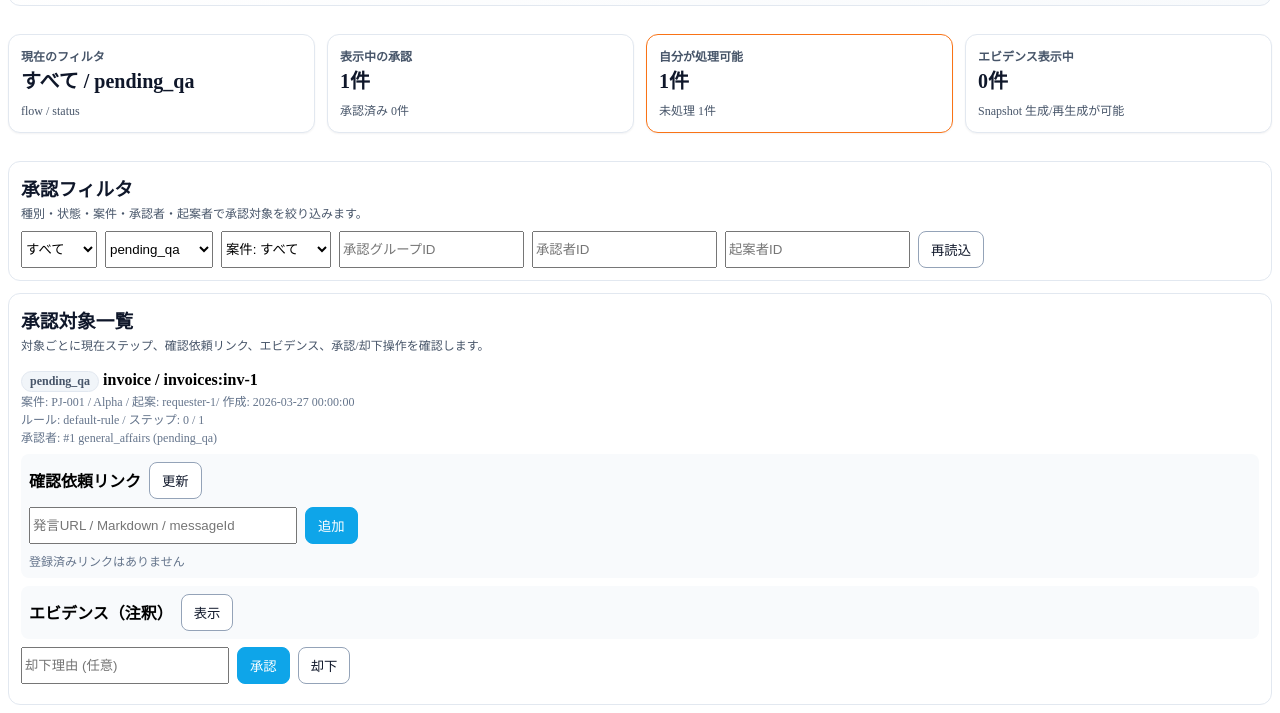
Test: Approvals › shows a permission guidance when chat preview fetch is forbidden
(page scrolled)
Check: the text "pending_qa invoice / invoices:inv-1" is shown, box [21,371,258,392]
Click the button "表示" at [207, 612], box [181,594,233,631]
(page scrolled)
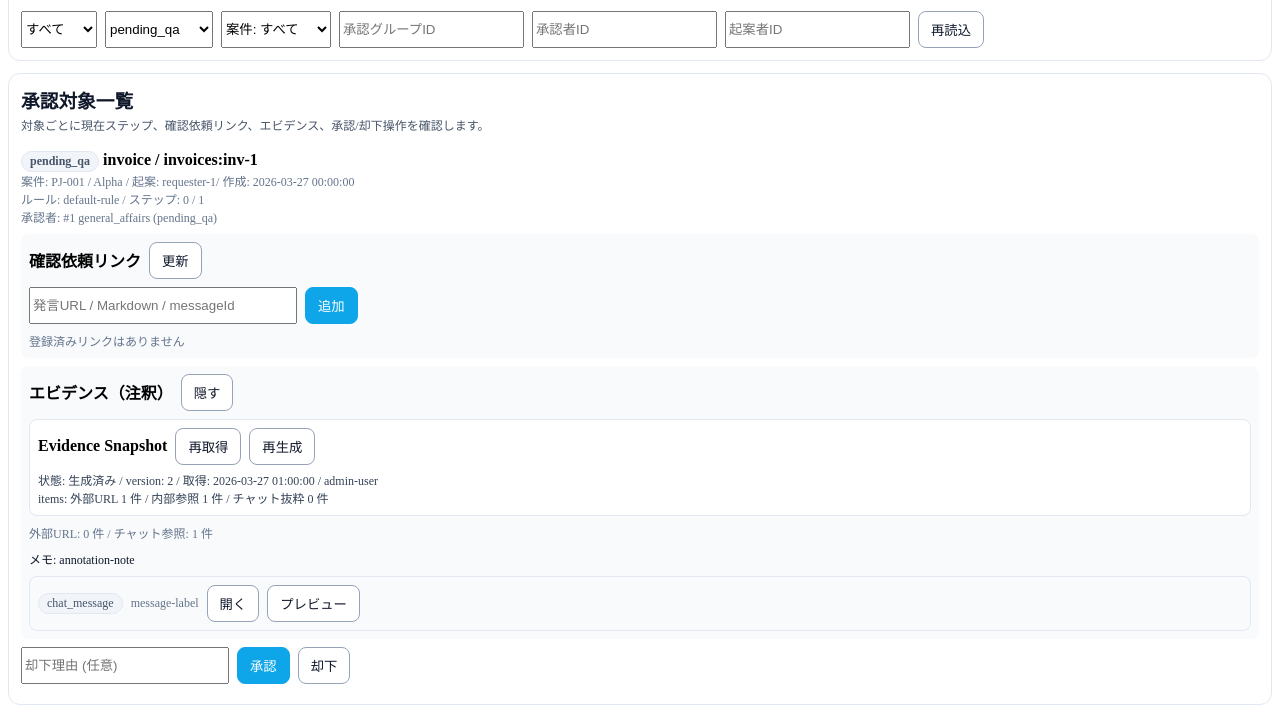
Click the button "プレビュー" at [314, 603], box [267,585,360,622]
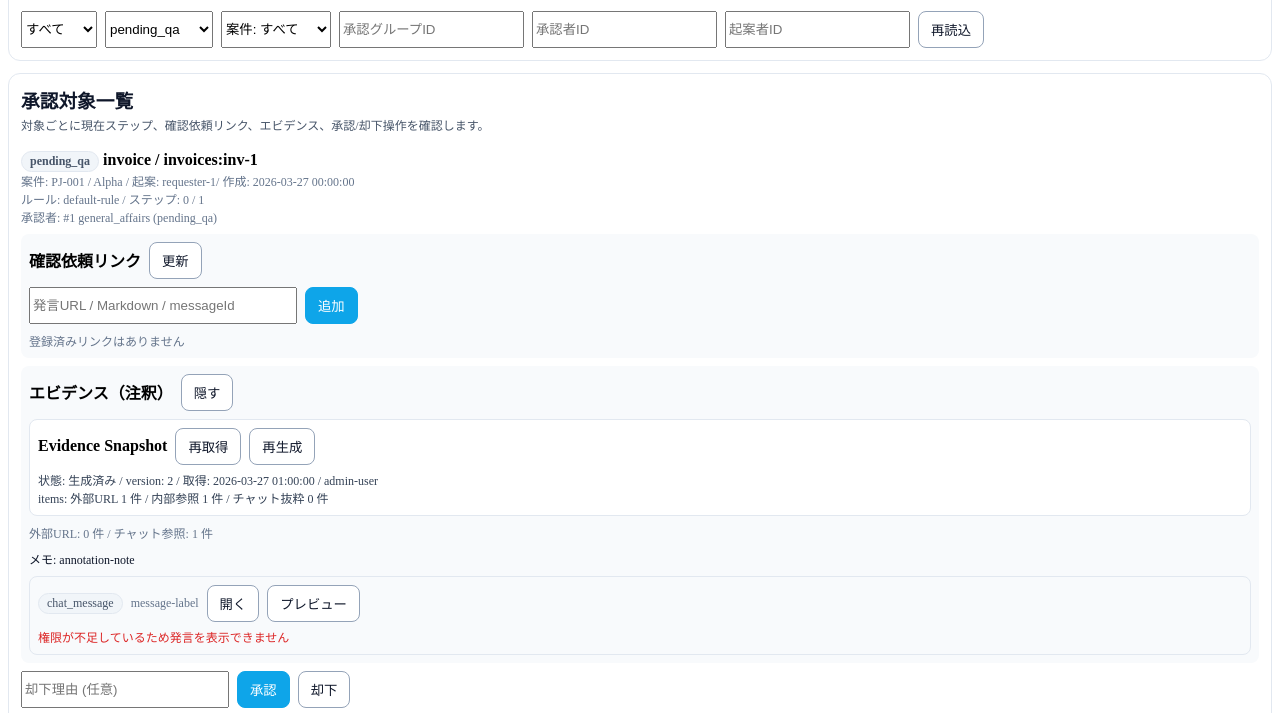
Check: the text "権限が不足しているため発言を表示できません" is shown, box [38,631,289,645]
